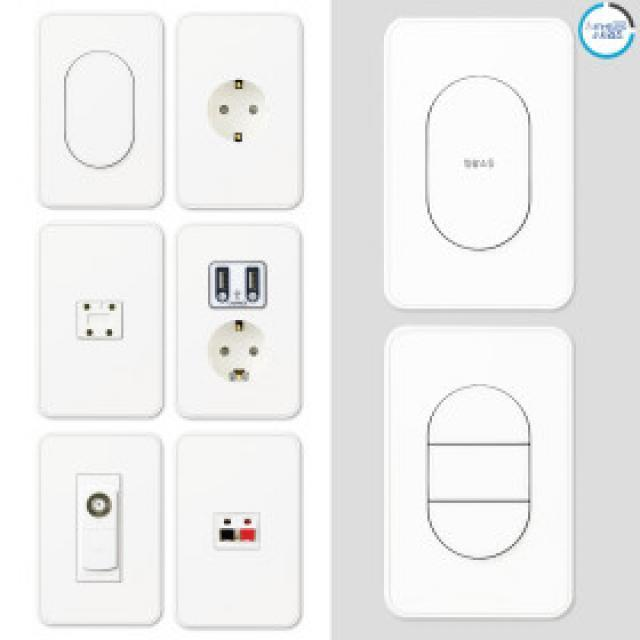typeb: (168, 6, 323, 223), (172, 216, 312, 431)
